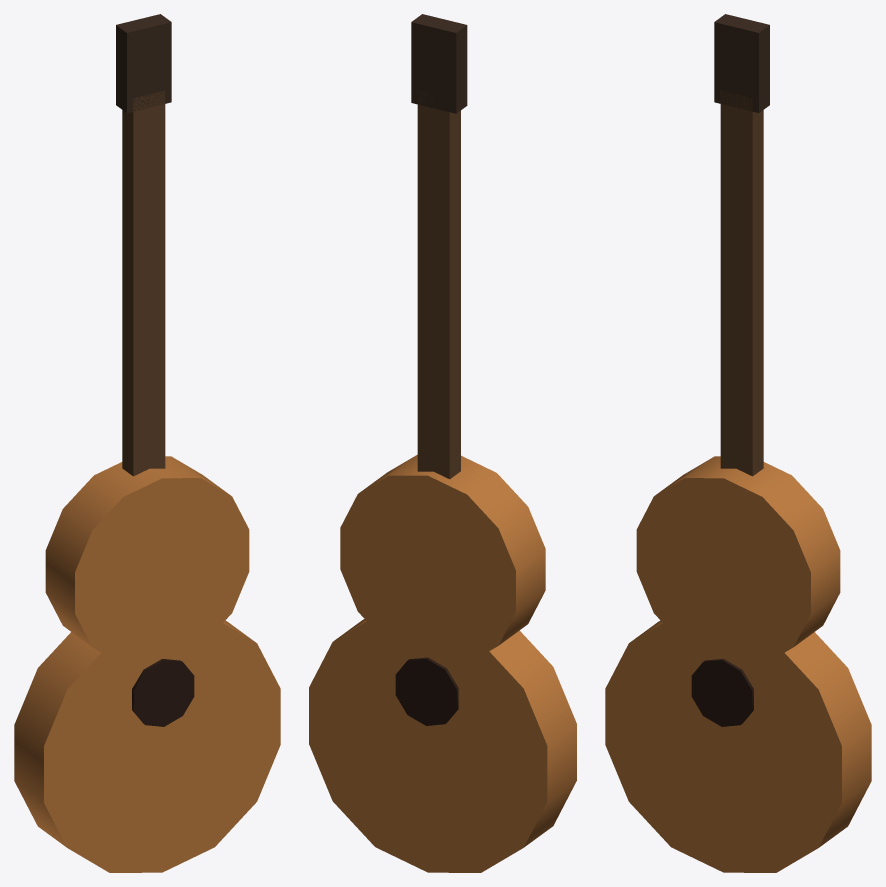
The model's file is guitar.glb.
3 views of the same model, side by side, from view 1: azimuth 30°, elevation 25°; view 2: azimuth 150°, elevation 25°; view 3: azimuth 330°, elevation 25° (orthographic).
Visible parts, largest first — view 1: #b8763a, #5a3e26, #3a2a1e, #2a1a12_noshadow; view 2: #b8763a, #5a3e26, #3a2a1e, #2a1a12_noshadow; view 3: #b8763a, #5a3e26, #3a2a1e, #2a1a12_noshadow.
Part boxes in pixels (x1,y1,x2,y2): #b8763a: (14, 456, 280, 872); #5a3e26: (122, 91, 165, 476); #3a2a1e: (116, 14, 171, 112); #2a1a12_noshadow: (132, 659, 194, 726); #b8763a: (309, 454, 576, 872); #5a3e26: (417, 92, 460, 479); #3a2a1e: (411, 14, 467, 113); #2a1a12_noshadow: (395, 657, 458, 725); #b8763a: (605, 456, 871, 872); #5a3e26: (720, 90, 763, 476); #3a2a1e: (714, 14, 769, 112); #2a1a12_noshadow: (691, 659, 753, 726).
Size of the model in its own units: 0.3705 by 1.25 by 0.09.
